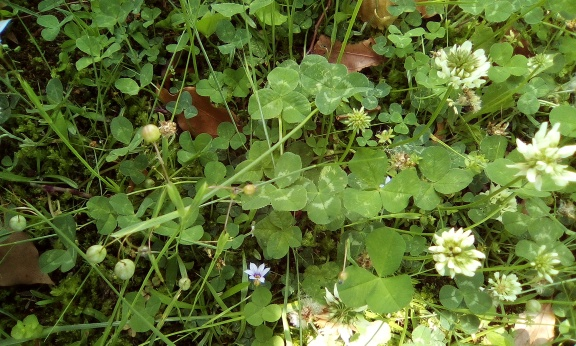4leaf: (300, 63, 370, 115)
